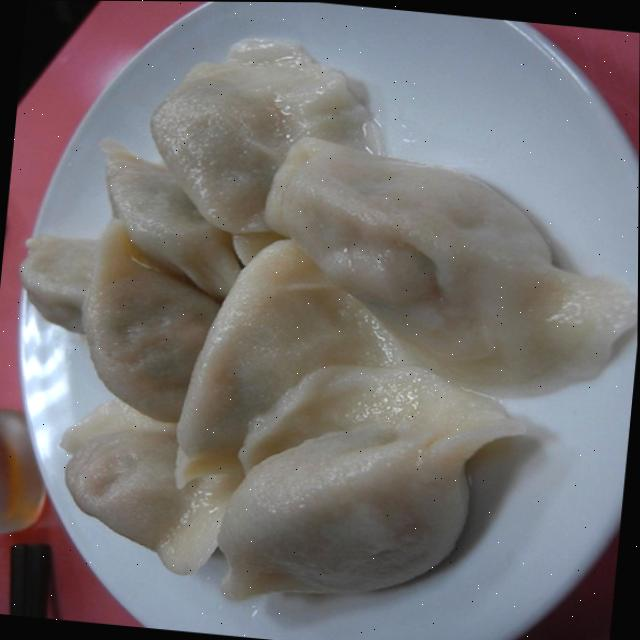带馅早点: (0, 3, 640, 640)
